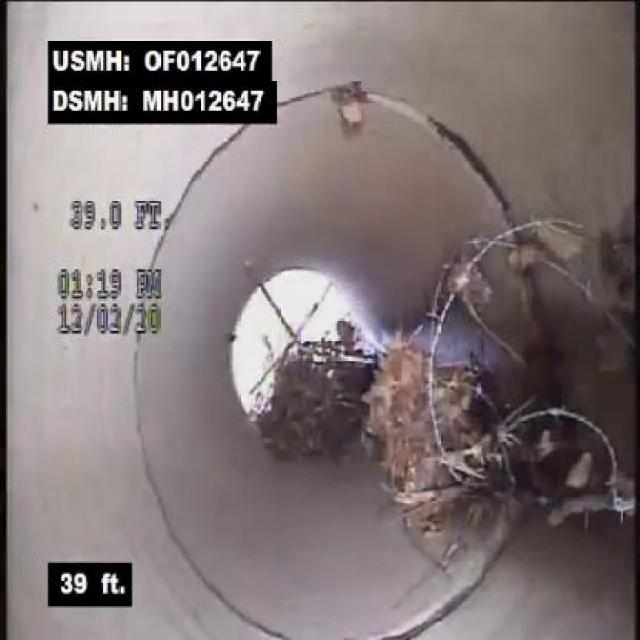Debris: (354, 318, 563, 544)
